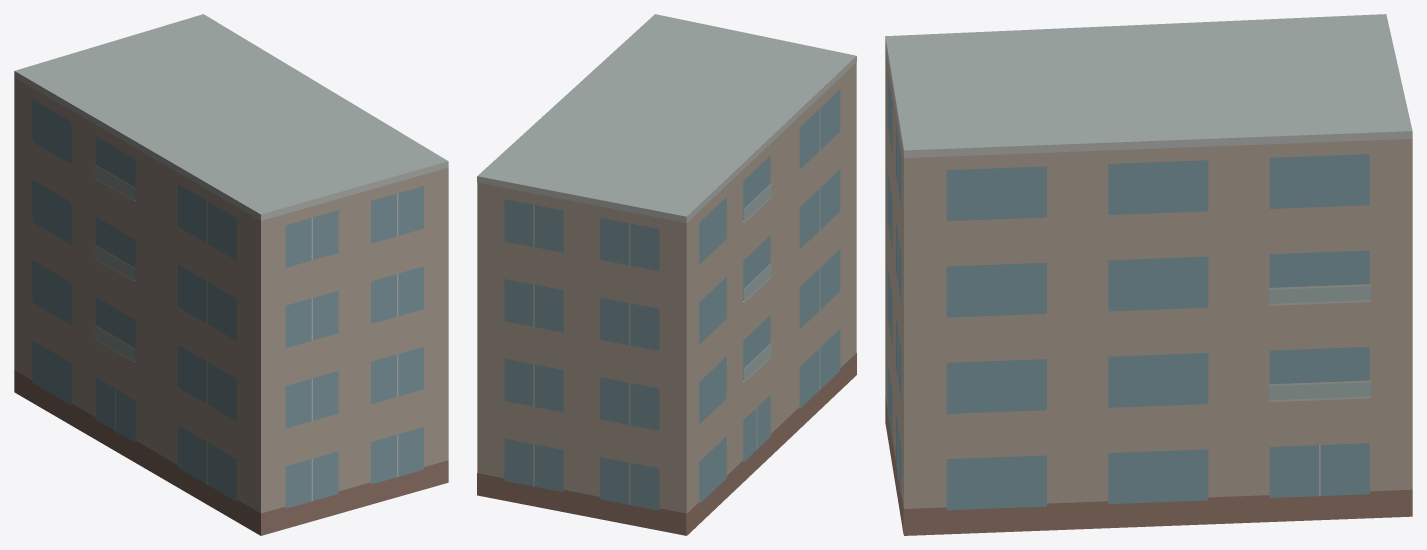
File: survey-upis-32698892.glb
The picture shows the model from 3 angles, left to right: view 1: azimuth 30°, elevation 25°; view 2: azimuth 150°, elevation 25°; view 3: azimuth 270°, elevation 25°; orthographic projection. The views are drawn at different scales.
Visible parts, largest first — view 1: survey-upis-32698892.tmp; view 2: survey-upis-32698892.tmp; view 3: survey-upis-32698892.tmp.
Boxes of the visible parts, left/top/right/bottom form: survey-upis-32698892.tmp: left=14, top=14, right=448, bottom=535; survey-upis-32698892.tmp: left=477, top=14, right=856, bottom=535; survey-upis-32698892.tmp: left=885, top=14, right=1412, bottom=535.
Bounding box in the file's own units: 9.27 × 12.2 × 15.14.
